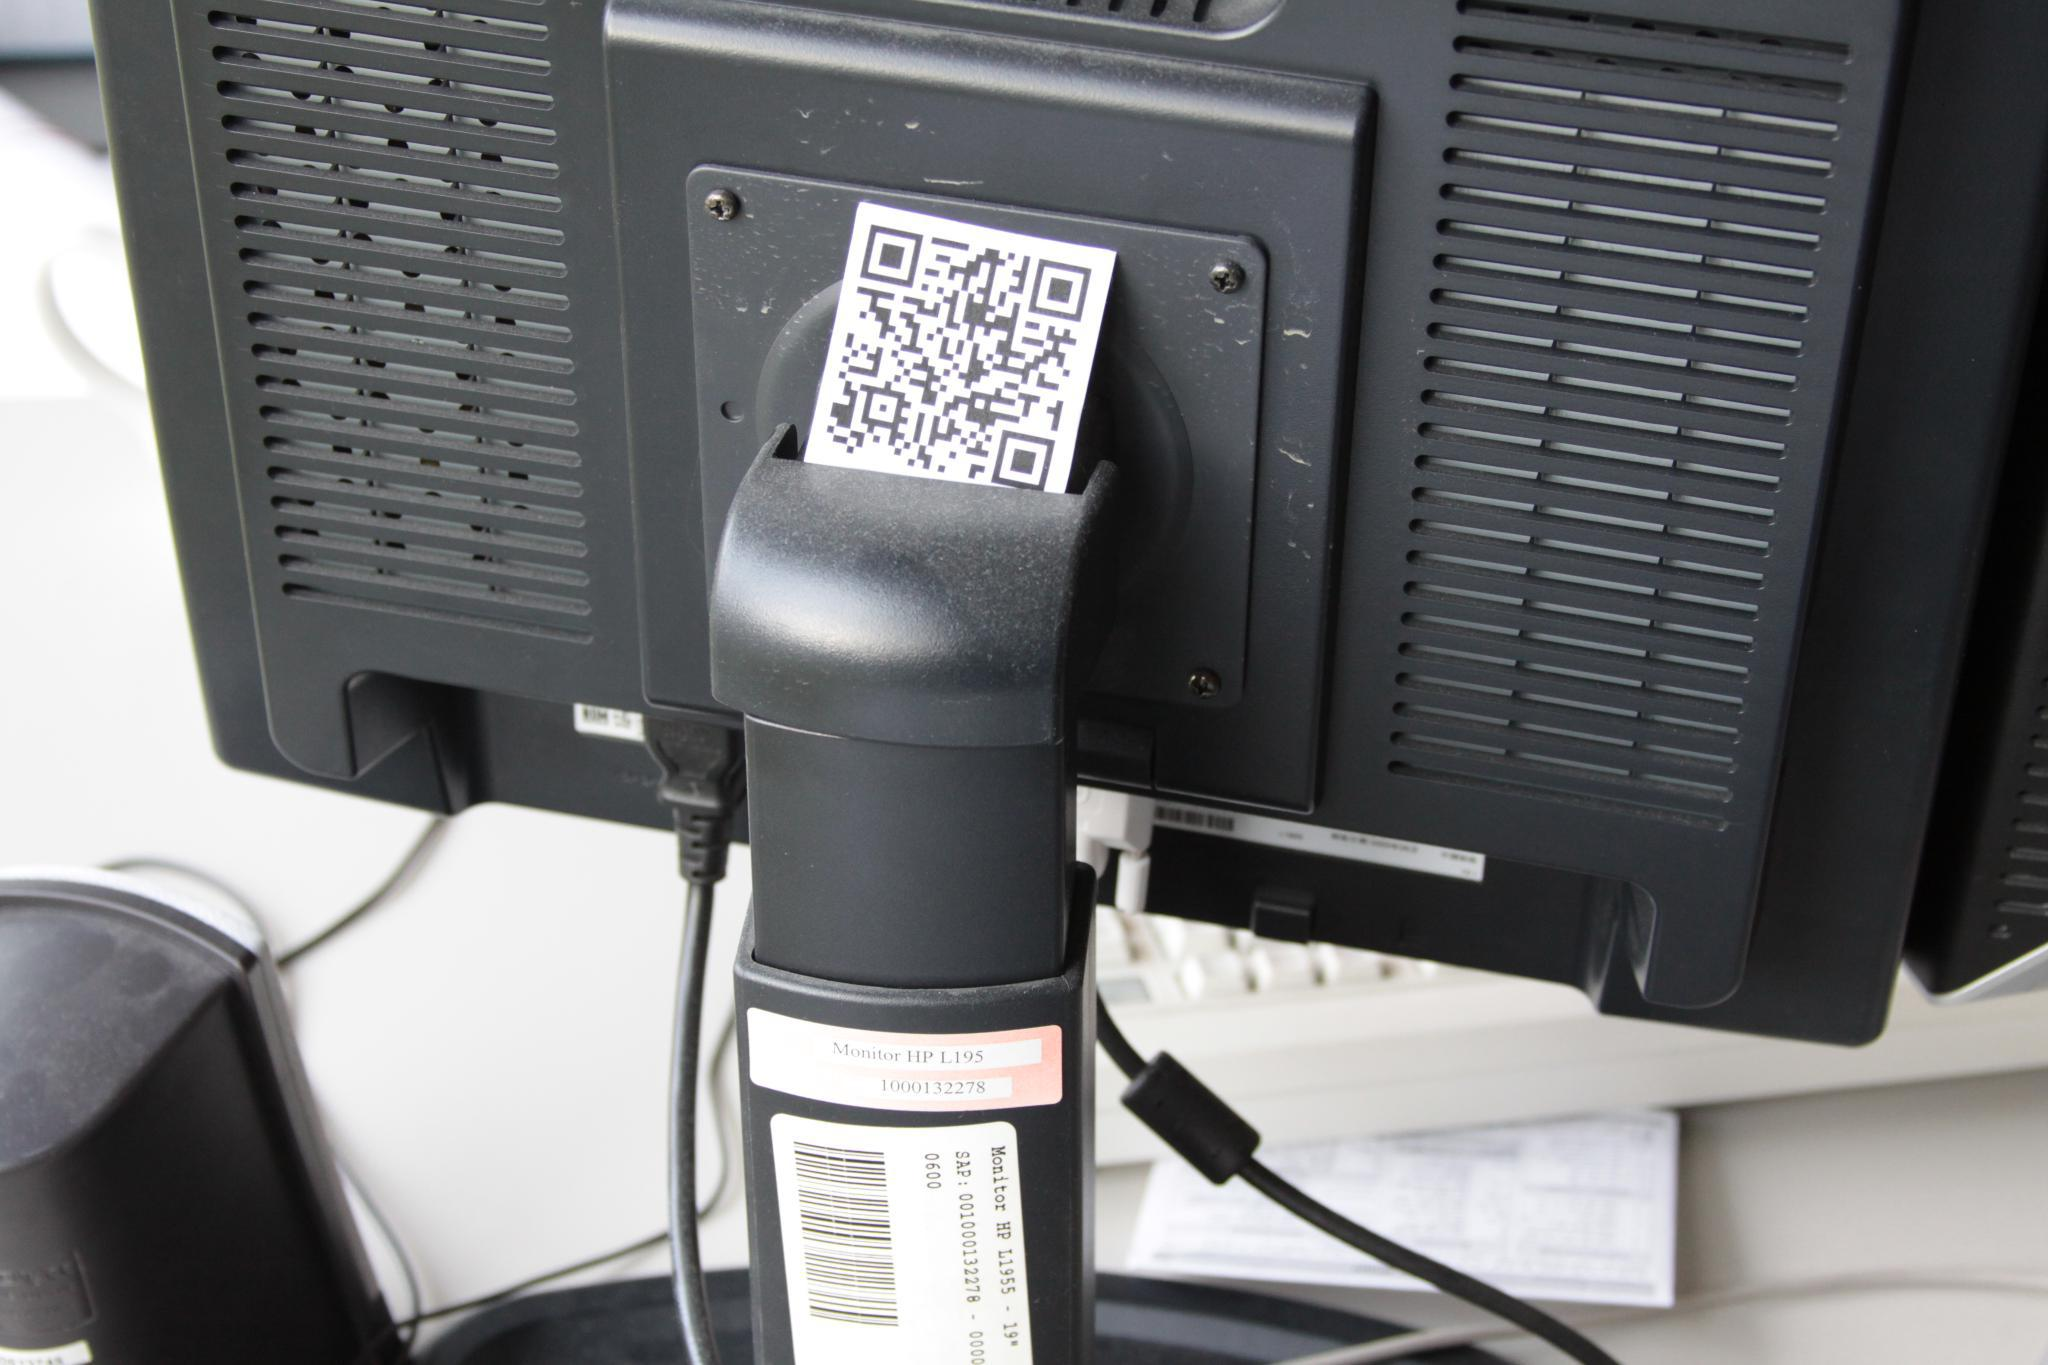Finder pattern: (987, 414, 1067, 500), (854, 212, 927, 288)
